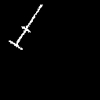double_crochet: (9, 5, 41, 49)
